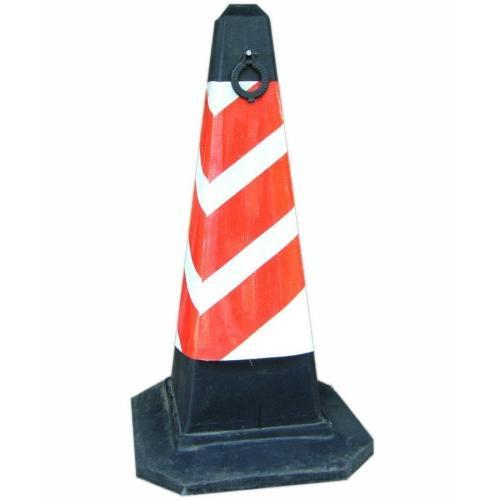cone_barrel: (142, 13, 347, 470)
